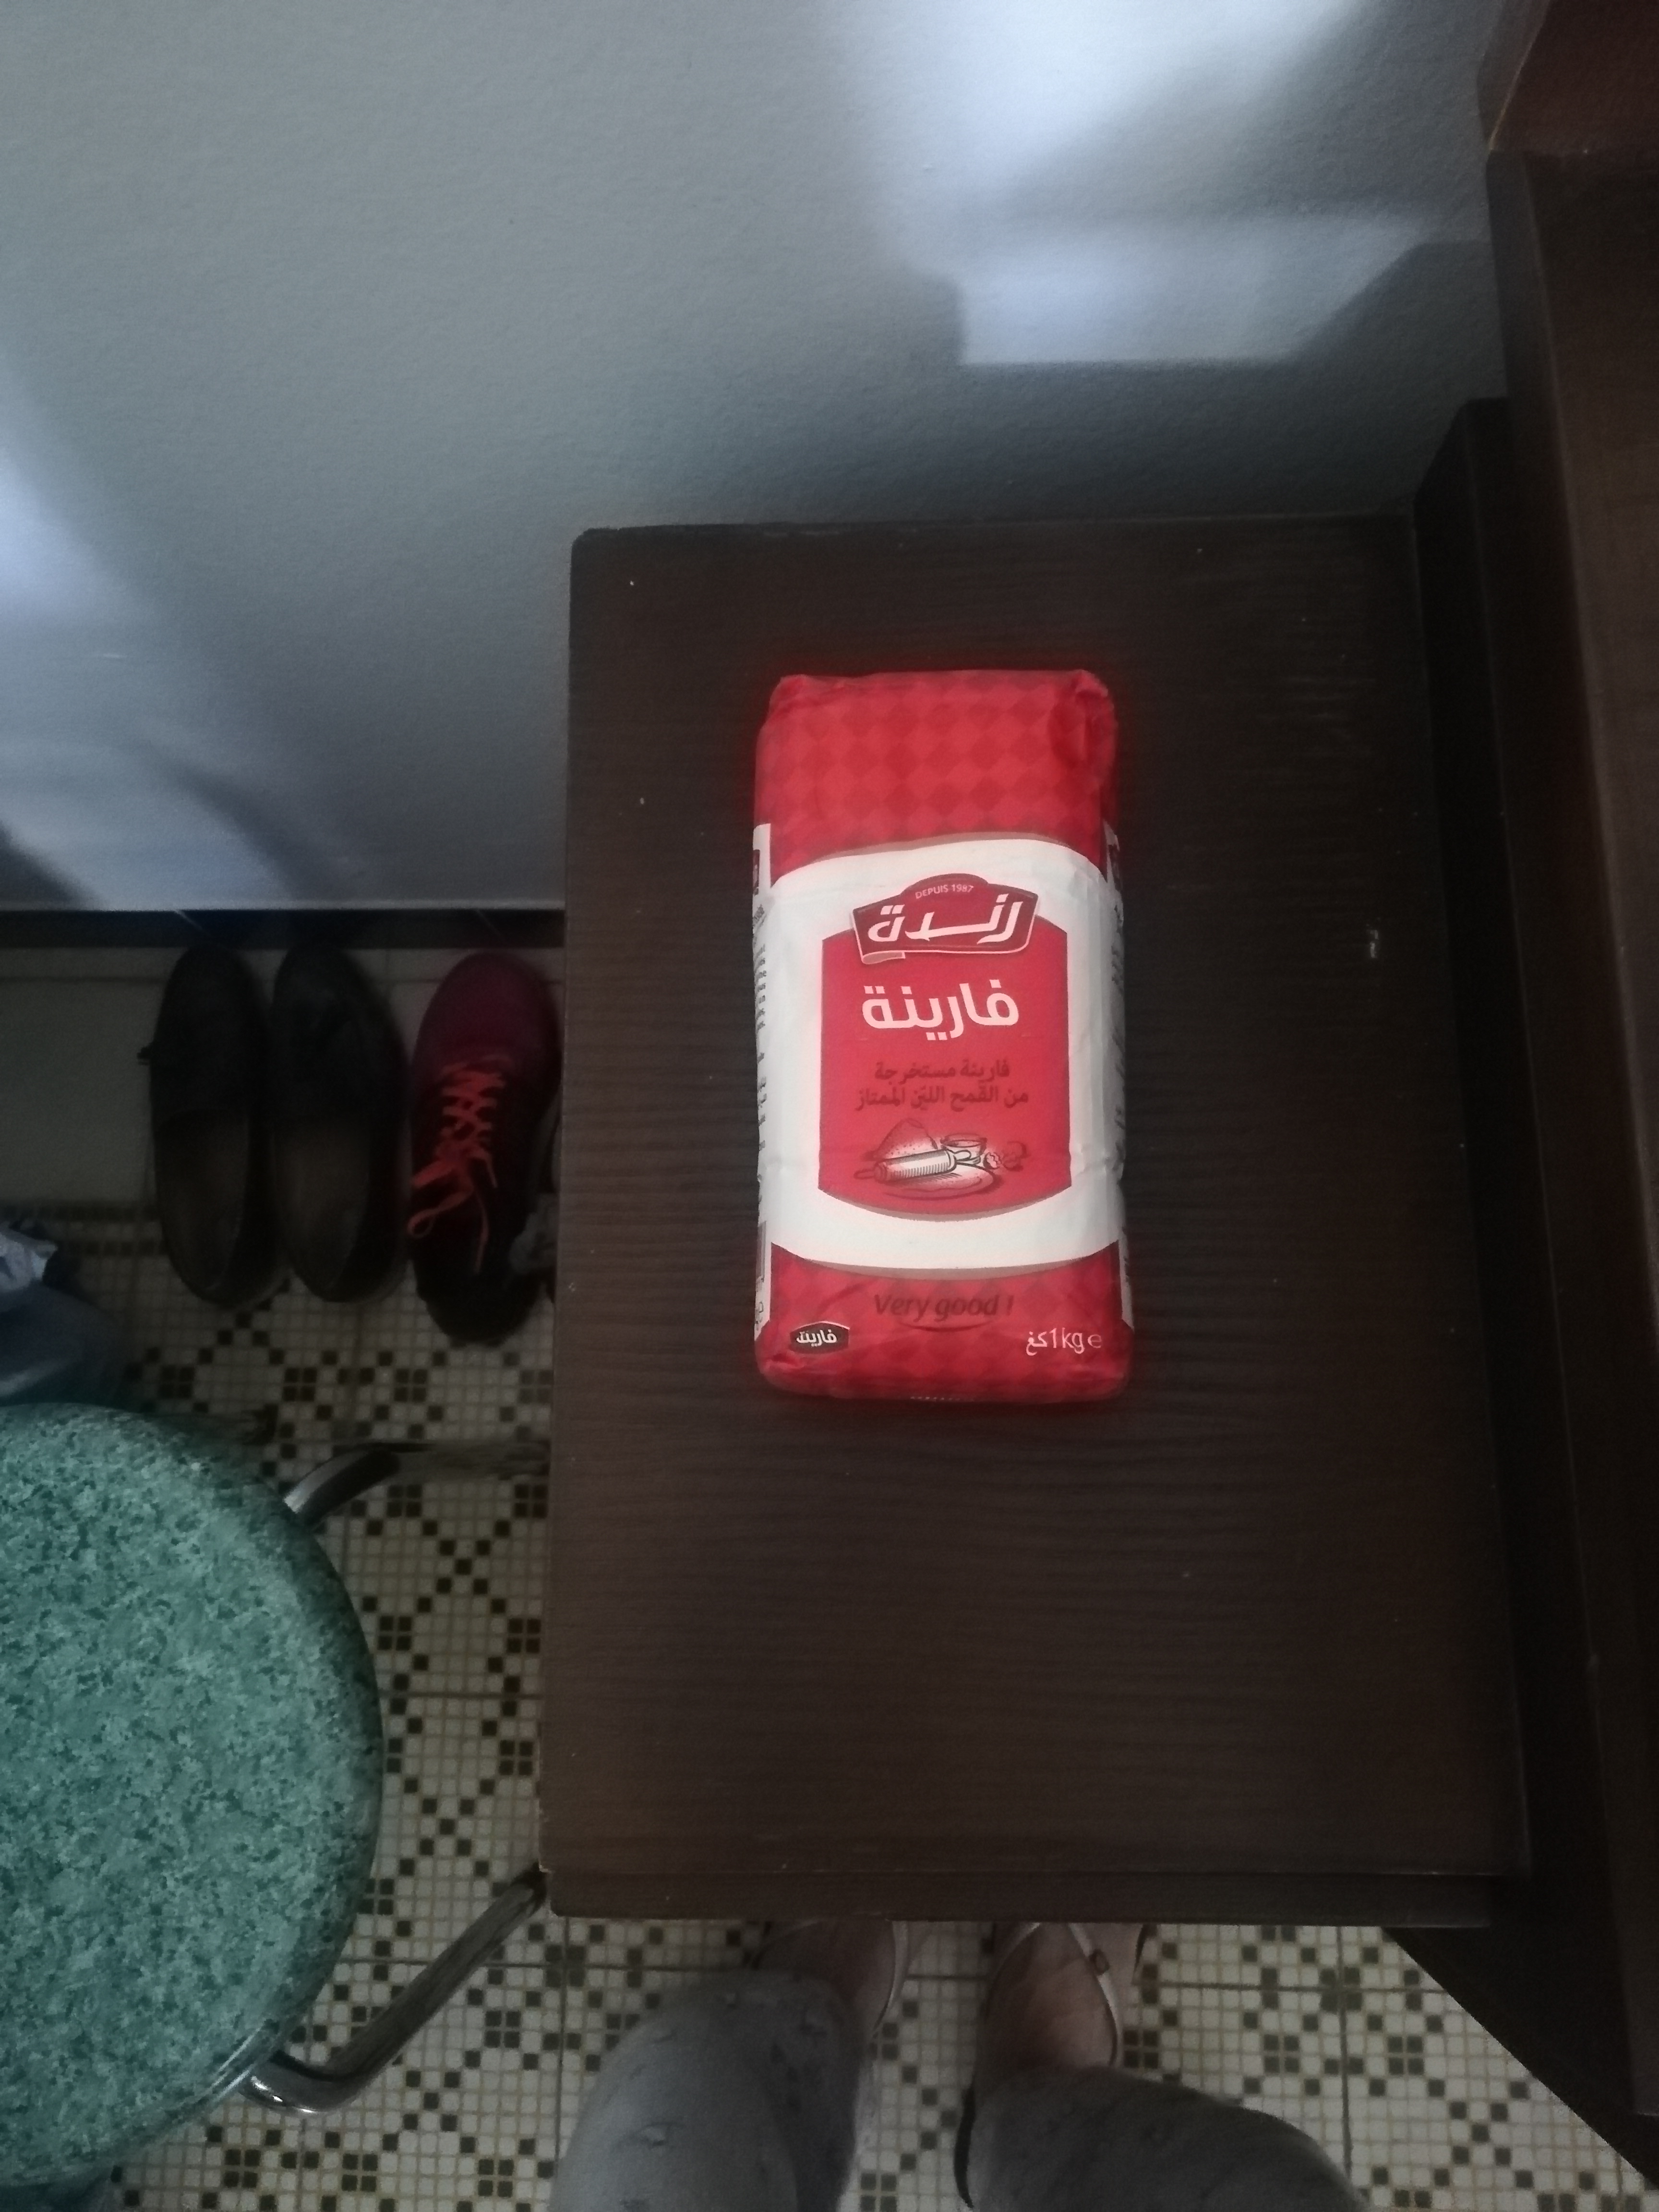Farine Randa: (737, 667, 1138, 1418)
